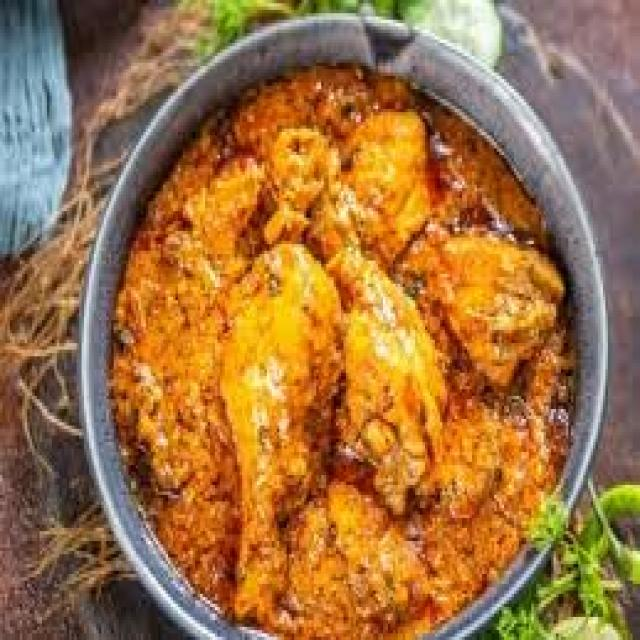Frango: (104, 66, 583, 637)
